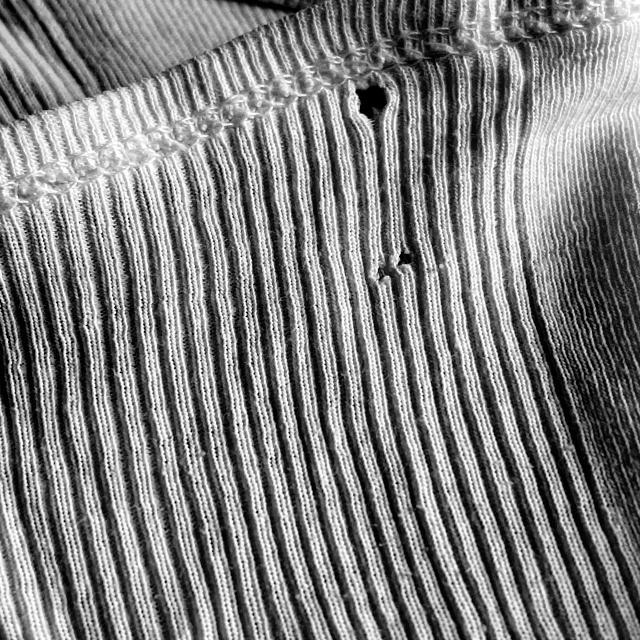Hole: (339, 75, 413, 136)
